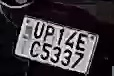1: (56, 27, 66, 48)
3: (49, 45, 62, 65), (62, 47, 71, 69)
4: (64, 30, 76, 49)
5: (41, 39, 51, 62)
7: (71, 52, 85, 70)
C: (28, 40, 40, 59)
E: (76, 33, 91, 52)
P: (43, 25, 57, 42)
U: (31, 21, 46, 39)
